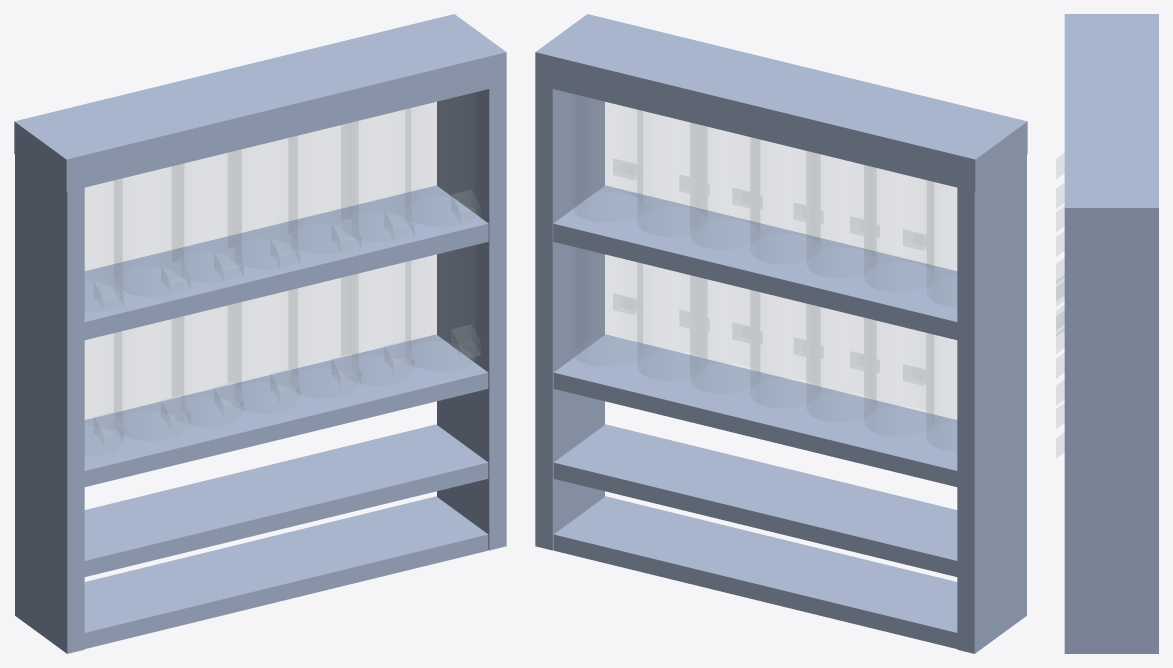
Rendered from coffebeanorcandytubes.fbx.
3 views of the same model, side by side, from view 1: azimuth 30°, elevation 25°; view 2: azimuth 150°, elevation 25°; view 3: azimuth 270°, elevation 25° (orthographic). The views are drawn at different scales.
Visible parts, largest first — view 1: pCube145, polySurface28; view 2: pCube145, polySurface28; view 3: pCube145, polySurface28.
Part boxes in pixels (x1,y1,x2,y2): pCube145: (14, 14, 506, 653); polySurface28: (85, 97, 480, 455); pCube145: (535, 14, 1027, 653); polySurface28: (573, 99, 956, 450); pCube145: (1064, 14, 1158, 653); polySurface28: (1056, 154, 1064, 457).
Bounding box in the file's own units: 1372 × 1473 × 308.
